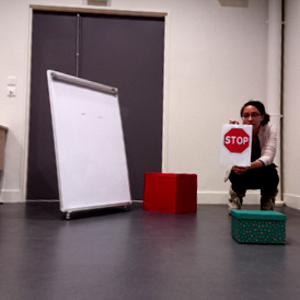stop: (224, 127, 250, 154)
